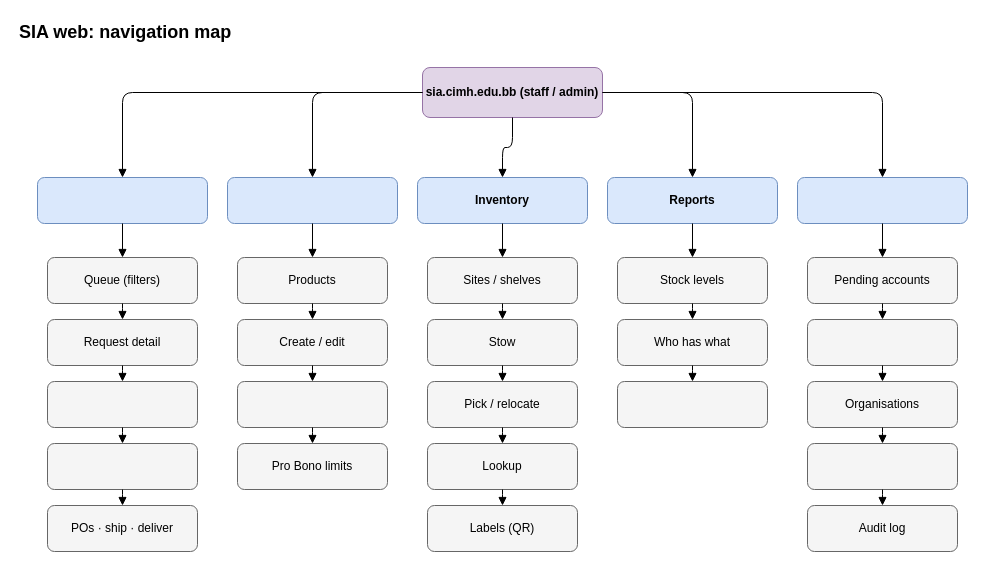
This 985x569 diagram has some shape labels left out. The centre of each missing label's shape, as x and y in pixels:
"Admin" belongs at point 882,200.
"Catalogue" belongs at point 312,200.
"Email lists · fees" belongs at point 882,466.
"Images (bg removal)" belongs at point 312,404.
"Movement history" belongs at point 692,404.
"Request desk" belongs at point 122,200.
"Start quoting" belongs at point 122,404.
"Upload quotes / send" belongs at point 122,466.
"Users & roles" belongs at point 882,342.
